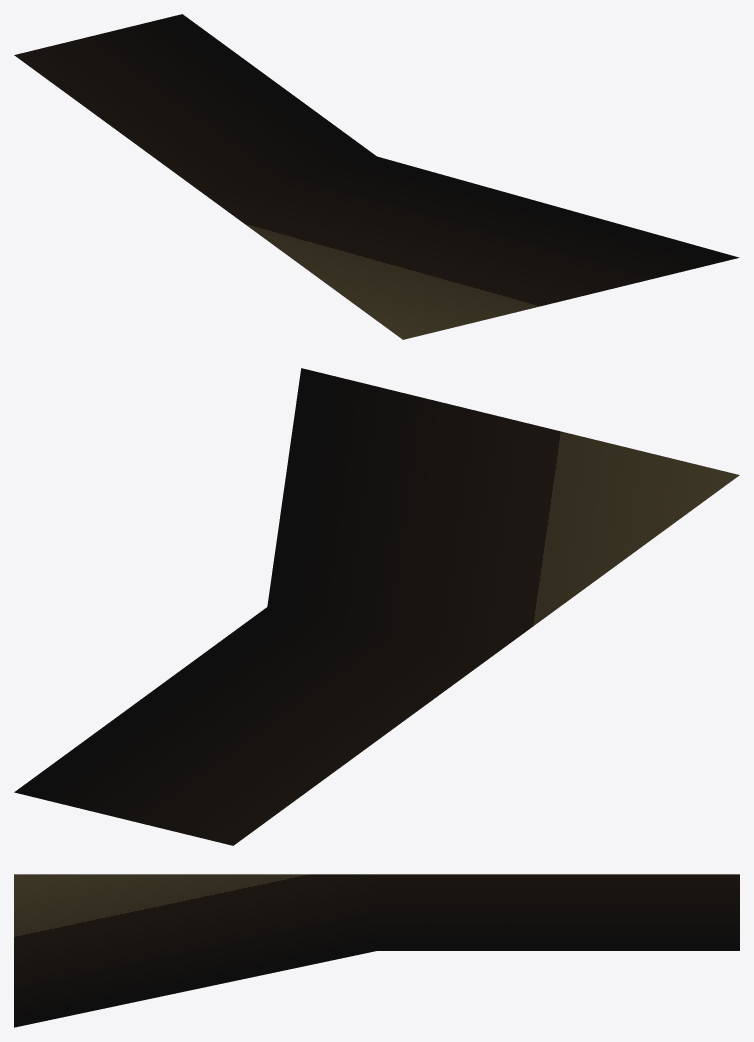
The picture shows the model from 3 angles, top to bottom: view 1: azimuth 30°, elevation 25°; view 2: azimuth 150°, elevation 25°; view 3: azimuth 270°, elevation 25°; orthographic projection. The views are drawn at different scales.
Size of the model in its own units: 0.5 by 0 by 1.
Materials: 1 (1 with a texture image).
